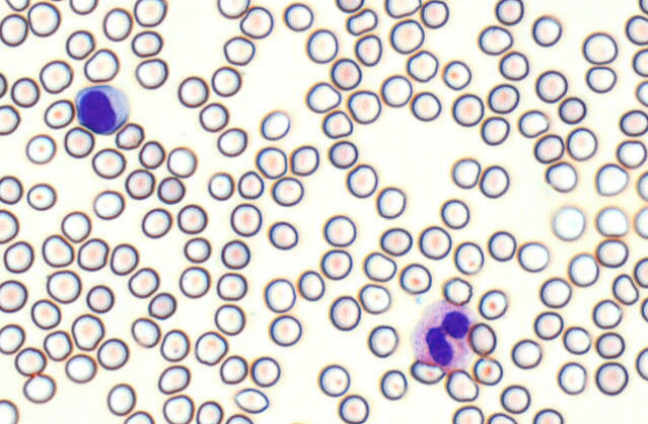GRAN: (408, 300, 478, 374)
LYM: (76, 86, 128, 133)
RBC: (389, 18, 424, 53), (83, 48, 119, 82), (71, 313, 104, 350), (194, 330, 228, 365), (46, 269, 81, 303), (347, 89, 381, 124), (552, 205, 585, 241), (582, 31, 618, 64), (27, 1, 60, 36), (263, 277, 296, 312), (305, 81, 341, 113), (595, 361, 628, 395), (418, 225, 451, 259), (39, 59, 72, 93), (239, 5, 273, 38), (329, 295, 361, 330), (345, 163, 377, 198), (306, 28, 338, 63), (477, 24, 513, 55), (445, 369, 478, 402), (595, 163, 628, 196), (96, 337, 129, 370), (41, 234, 74, 267), (323, 214, 356, 247), (451, 93, 484, 126), (268, 314, 302, 346), (535, 69, 567, 103), (568, 252, 599, 287), (566, 126, 597, 161), (230, 203, 262, 236), (178, 265, 210, 298), (406, 49, 438, 82), (135, 57, 168, 89), (380, 74, 412, 107), (77, 237, 108, 271), (91, 147, 125, 178), (318, 364, 350, 396), (399, 262, 431, 294), (255, 146, 287, 178), (539, 277, 572, 308), (3, 240, 34, 273), (363, 251, 396, 282), (358, 283, 391, 314), (367, 324, 398, 357), (595, 206, 628, 237), (330, 57, 361, 90), (22, 373, 56, 403), (557, 361, 587, 395), (454, 241, 484, 275), (479, 164, 509, 198), (102, 7, 132, 41), (545, 161, 577, 192), (320, 249, 352, 280), (127, 267, 159, 298), (517, 241, 549, 272), (60, 210, 91, 242), (63, 126, 94, 158), (214, 303, 245, 335), (531, 14, 562, 46), (177, 75, 208, 107), (157, 364, 190, 394), (376, 186, 406, 219), (106, 382, 135, 416), (30, 298, 61, 329), (511, 338, 542, 369), (166, 146, 197, 177), (141, 207, 172, 238), (14, 346, 46, 376), (64, 353, 96, 383), (271, 176, 303, 206), (159, 329, 189, 361), (92, 189, 124, 219), (223, 35, 255, 65), (487, 83, 519, 113), (211, 65, 241, 97), (468, 322, 496, 356), (592, 298, 622, 329), (533, 133, 564, 163), (289, 144, 319, 175), (250, 356, 280, 387), (25, 133, 55, 164), (410, 91, 441, 121), (177, 203, 207, 234), (260, 109, 290, 140), (498, 50, 529, 80), (596, 238, 628, 267), (162, 394, 194, 423), (380, 227, 412, 256), (451, 157, 480, 189), (109, 243, 138, 275), (321, 109, 353, 138), (0, 13, 28, 46), (354, 33, 382, 66), (234, 387, 269, 413), (220, 239, 250, 269), (338, 394, 369, 423), (43, 330, 72, 361), (10, 76, 39, 107), (440, 198, 469, 229), (518, 109, 549, 138), (43, 99, 74, 128), (125, 168, 154, 199), (487, 230, 516, 261), (282, 2, 313, 31), (442, 59, 471, 90), (297, 269, 325, 301), (0, 279, 27, 312), (500, 384, 530, 413), (533, 311, 563, 340), (616, 139, 646, 168), (478, 289, 507, 319), (219, 354, 248, 384), (131, 317, 160, 347), (65, 29, 94, 59), (268, 220, 298, 249), (480, 115, 509, 145), (199, 102, 228, 132), (217, 127, 247, 156), (379, 369, 407, 400), (216, 272, 247, 300), (346, 7, 377, 35), (585, 65, 616, 93), (612, 273, 639, 305), (133, 0, 166, 26), (410, 359, 444, 384), (473, 356, 502, 385), (562, 325, 591, 354), (26, 182, 56, 210), (328, 140, 358, 168), (131, 30, 162, 57), (443, 277, 472, 305), (147, 291, 176, 319), (86, 284, 114, 313), (420, 0, 449, 28), (157, 176, 185, 204), (558, 96, 586, 124), (595, 331, 624, 358), (237, 170, 264, 199), (207, 171, 234, 200), (115, 122, 144, 149), (138, 140, 165, 169), (0, 323, 25, 354), (619, 109, 647, 136), (183, 236, 211, 263), (494, 0, 523, 25), (625, 14, 647, 45), (0, 208, 19, 243), (384, 0, 420, 18), (195, 400, 223, 423), (0, 175, 22, 204), (0, 104, 20, 135), (217, 0, 249, 18), (452, 405, 483, 423), (532, 408, 563, 423), (0, 398, 18, 423), (632, 47, 647, 77), (634, 206, 647, 238), (123, 410, 154, 423), (635, 347, 647, 380), (69, 0, 97, 14), (634, 257, 647, 287), (486, 412, 517, 423), (335, 0, 363, 12), (635, 80, 647, 106), (637, 171, 647, 200), (225, 413, 253, 423), (5, 0, 29, 11), (0, 72, 7, 98), (640, 297, 647, 322), (639, 0, 648, 14)
